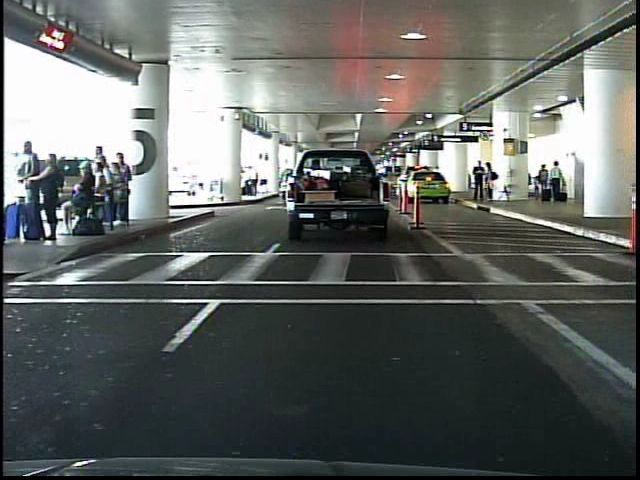person: (471, 158, 487, 206), (482, 163, 499, 202)
